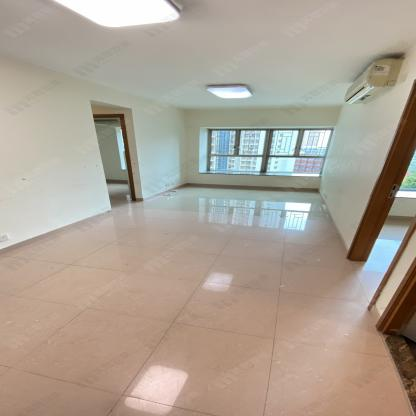AC: (342, 58, 404, 104)
Windowsill: (199, 126, 336, 177)
